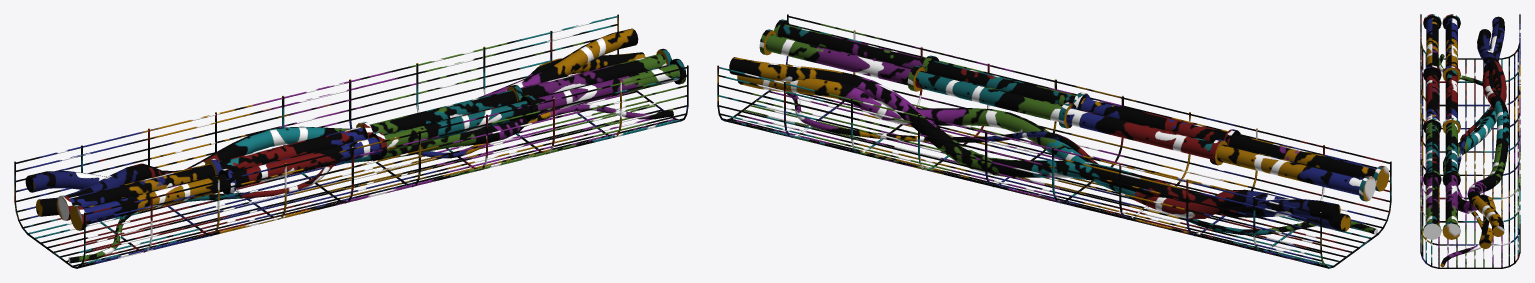
The model's file is sm_Tuyaux_grillage_1m.fbx.
3 views of the same model, side by side, from view 1: azimuth 30°, elevation 25°; view 2: azimuth 150°, elevation 25°; view 3: azimuth 270°, elevation 25° (orthographic). The views are drawn at different scales.
Visible parts, largest first — view 1: Shape001; view 2: Shape001; view 3: Shape001.
Boxes of the visible parts, x1,y1,x2,y2 form: Shape001: (14, 14, 688, 268); Shape001: (717, 14, 1391, 268); Shape001: (1420, 14, 1520, 268).
Bounding box in the file's own units: 100 × 10.16 × 20.3.
1 material, 1 textured.
